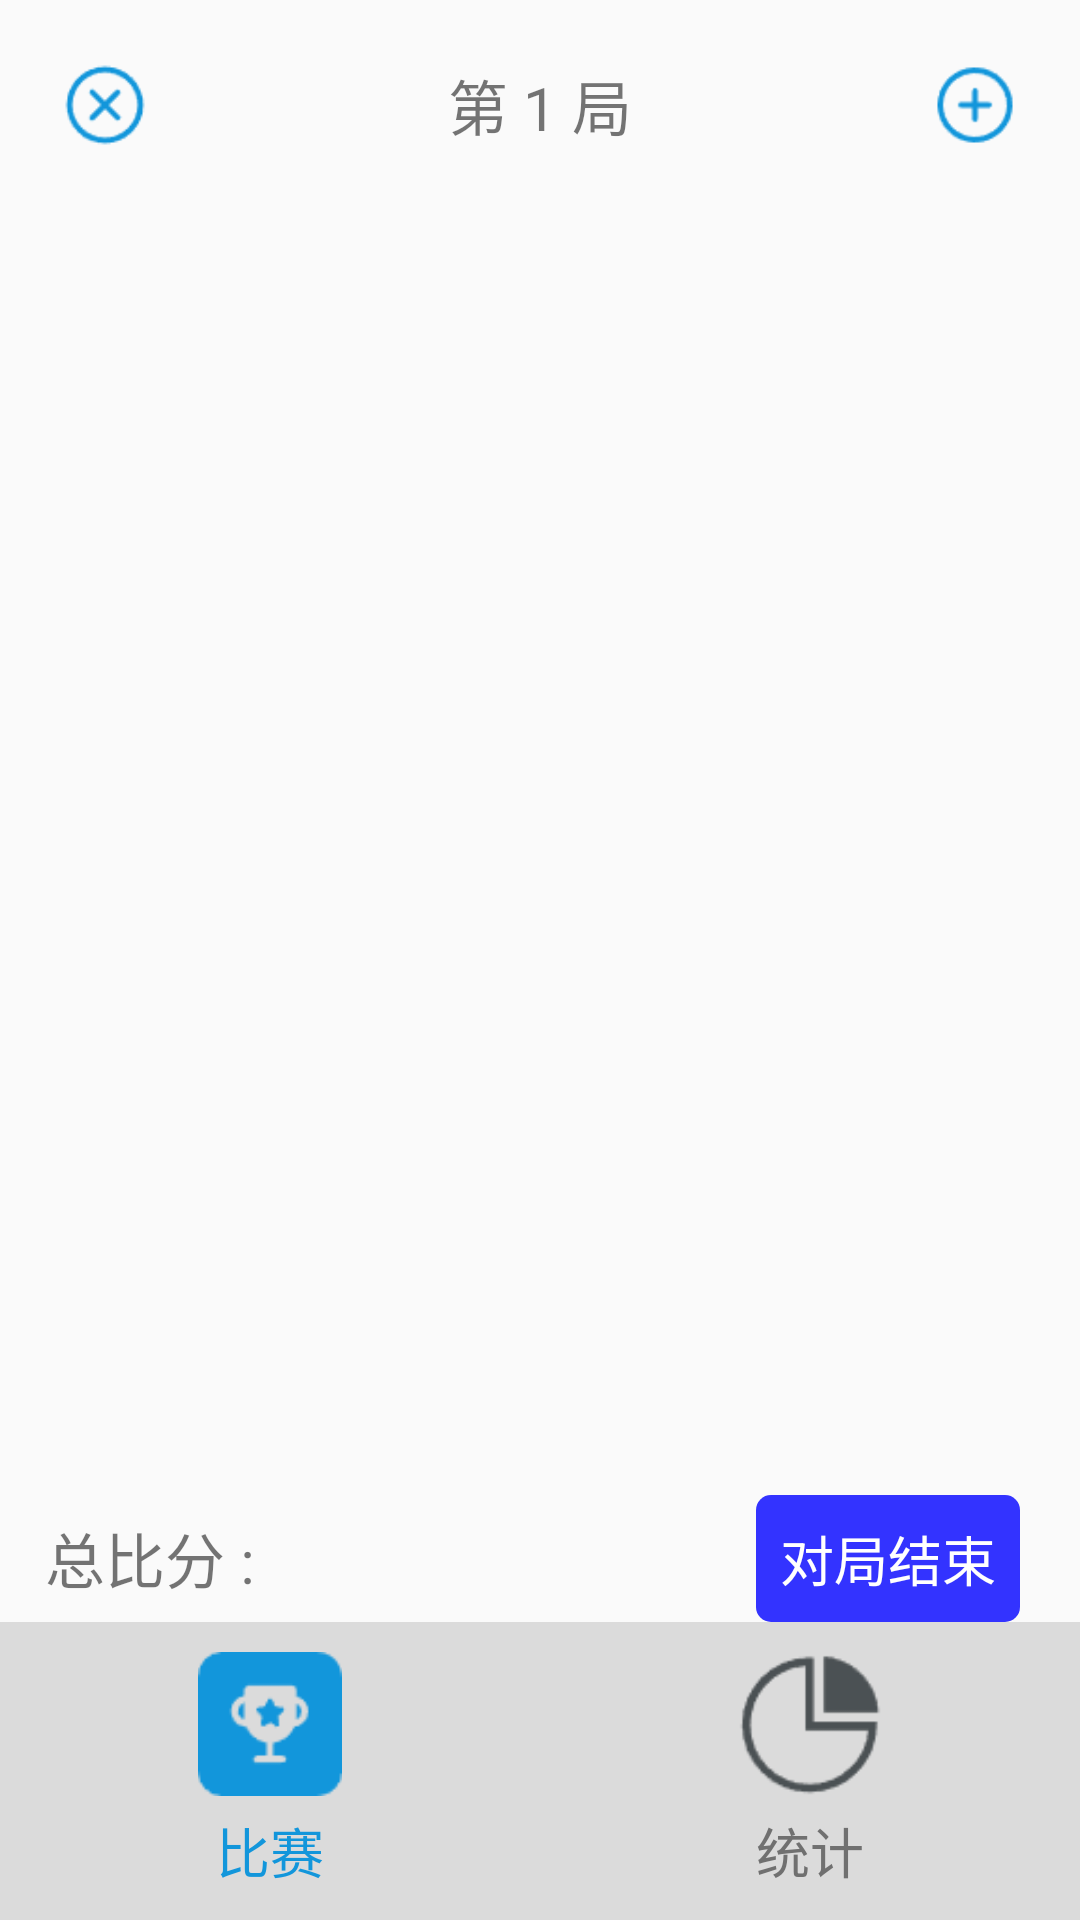

Named icons in this screenshot (1080*1920) and their centers, (x=x, y=y):
delete: (x=105, y=105)
play select: (x=270, y=1724)
